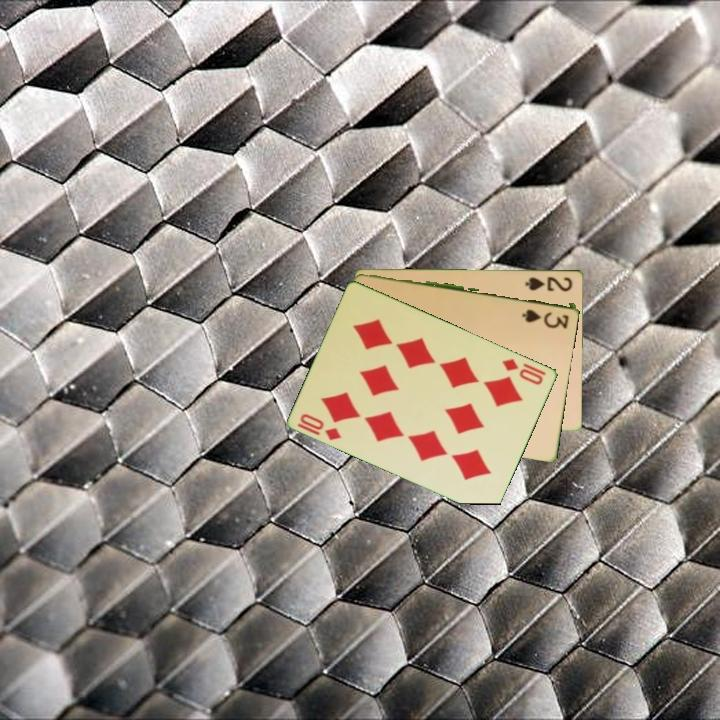10d: (498, 355, 550, 388), (294, 410, 345, 443)
2s: (522, 273, 575, 294)
3s: (519, 305, 572, 328)
